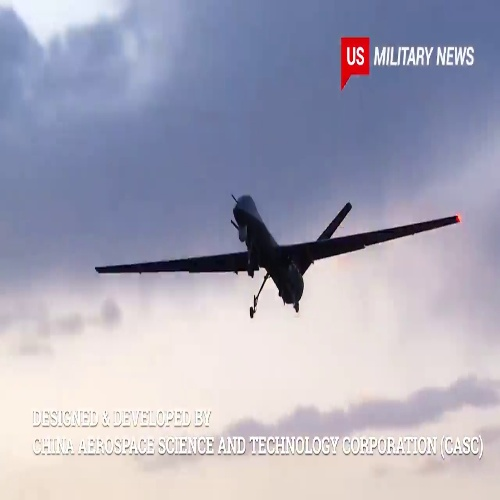uav: (92, 191, 463, 318)
